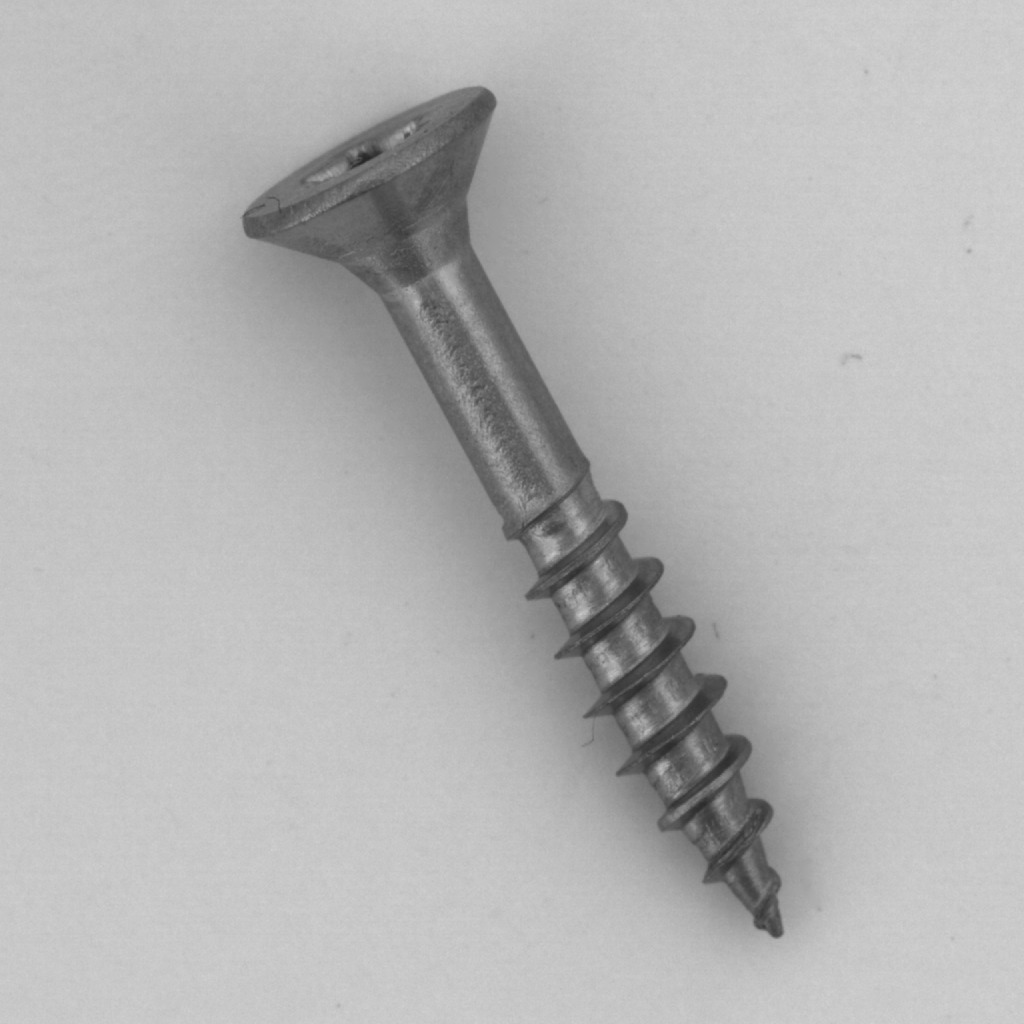good: (217, 66, 815, 962)
